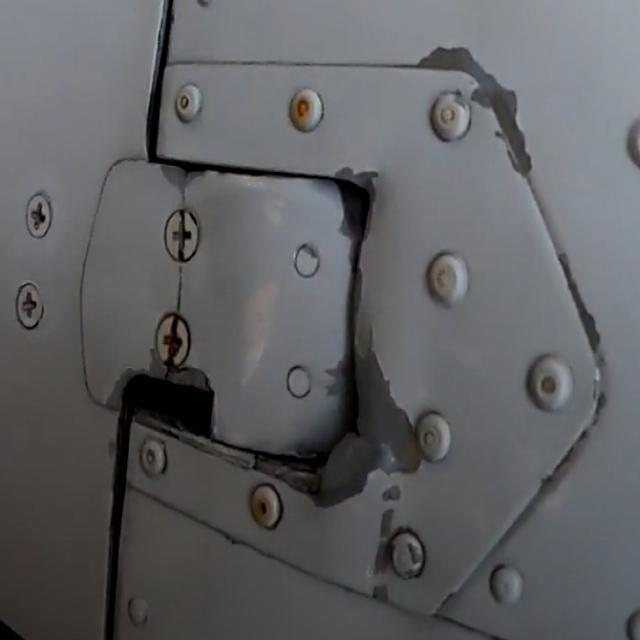crack: (162, 264, 195, 309)
